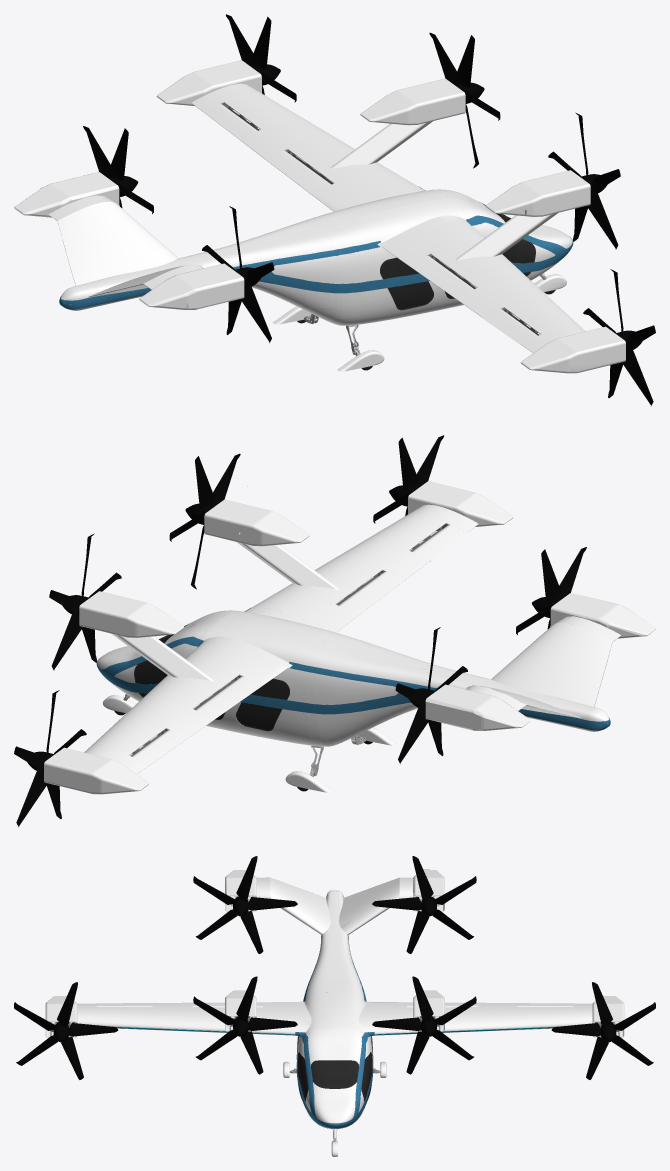
The model's file is Evtol Tilt Rotor.fbx.
3 renders of one model, top to bottom at view 1: azimuth 30°, elevation 25°; view 2: azimuth 150°, elevation 25°; view 3: azimuth 270°, elevation 25°, orthographic. The views are drawn at different scales.
Parts seen in each view (by area): view 1: Shape_IndexedFaceSet.007, Shape_IndexedFaceSet.008, Shape_IndexedFaceSet.1976, Shape_IndexedFaceSet.009, Shape_IndexedFaceSet.005, Shape_IndexedFaceSet.004, Shape_IndexedFaceSet.006, Shape_IndexedFaceSet.001, Shape_IndexedFaceSet.002, Shape_IndexedFaceSet.2063, Shape_IndexedFaceSet.003, Shape_IndexedFaceSet.12835; view 2: Shape_IndexedFaceSet.007, Shape_IndexedFaceSet.008, Shape_IndexedFaceSet.1976, Shape_IndexedFaceSet.009, Shape_IndexedFaceSet.005, Shape_IndexedFaceSet.006, Shape_IndexedFaceSet.004, Shape_IndexedFaceSet.2063, Shape_IndexedFaceSet.003, Shape_IndexedFaceSet.001, Shape_IndexedFaceSet.002, Shape_IndexedFaceSet.12835; view 3: Shape_IndexedFaceSet.008, Shape_IndexedFaceSet.007, Shape_IndexedFaceSet.006, Shape_IndexedFaceSet.004, Shape_IndexedFaceSet.001, Shape_IndexedFaceSet.2063, Shape_IndexedFaceSet.002, Shape_IndexedFaceSet.003, Shape_IndexedFaceSet.1976, Shape_IndexedFaceSet.005, Shape_IndexedFaceSet.009, Shape_IndexedFaceSet.12835.
Boxes of the visible parts, bbox=[...] form: Shape_IndexedFaceSet.007: bbox=[156, 60, 625, 373]; Shape_IndexedFaceSet.008: bbox=[57, 186, 572, 371]; Shape_IndexedFaceSet.1976: bbox=[14, 172, 244, 309]; Shape_IndexedFaceSet.009: bbox=[61, 221, 337, 322]; Shape_IndexedFaceSet.005: bbox=[59, 187, 573, 309]; Shape_IndexedFaceSet.004: bbox=[429, 32, 500, 168]; Shape_IndexedFaceSet.006: bbox=[548, 112, 620, 249]; Shape_IndexedFaceSet.001: bbox=[202, 206, 274, 342]; Shape_IndexedFaceSet.002: bbox=[583, 269, 655, 405]; Shape_IndexedFaceSet.2063: bbox=[83, 126, 153, 213]; Shape_IndexedFaceSet.003: bbox=[226, 14, 296, 102]; Shape_IndexedFaceSet.12835: bbox=[221, 102, 540, 335]; Shape_IndexedFaceSet.007: bbox=[44, 481, 513, 794]; Shape_IndexedFaceSet.008: bbox=[97, 607, 612, 792]; Shape_IndexedFaceSet.1976: bbox=[425, 593, 655, 730]; Shape_IndexedFaceSet.009: bbox=[332, 642, 609, 743]; Shape_IndexedFaceSet.005: bbox=[96, 608, 610, 730]; Shape_IndexedFaceSet.006: bbox=[169, 453, 240, 589]; Shape_IndexedFaceSet.004: bbox=[49, 533, 121, 670]; Shape_IndexedFaceSet.2063: bbox=[395, 627, 467, 763]; Shape_IndexedFaceSet.003: bbox=[14, 690, 86, 826]; Shape_IndexedFaceSet.001: bbox=[516, 547, 586, 634]; Shape_IndexedFaceSet.002: bbox=[373, 435, 443, 523]; Shape_IndexedFaceSet.12835: bbox=[131, 486, 448, 756]; Shape_IndexedFaceSet.008: bbox=[270, 877, 399, 1156]; Shape_IndexedFaceSet.007: bbox=[45, 990, 624, 1037]; Shape_IndexedFaceSet.006: bbox=[193, 976, 297, 1074]; Shape_IndexedFaceSet.004: bbox=[372, 976, 476, 1074]; Shape_IndexedFaceSet.001: bbox=[193, 856, 297, 953]; Shape_IndexedFaceSet.2063: bbox=[372, 856, 476, 953]; Shape_IndexedFaceSet.002: bbox=[14, 982, 118, 1079]; Shape_IndexedFaceSet.003: bbox=[551, 982, 655, 1079]; Shape_IndexedFaceSet.1976: bbox=[225, 869, 444, 911]; Shape_IndexedFaceSet.005: bbox=[295, 896, 374, 1128]; Shape_IndexedFaceSet.009: bbox=[308, 890, 361, 985]; Shape_IndexedFaceSet.12835: bbox=[50, 1016, 619, 1036].
Size of the model in its own units: 1116 by 473 by 1620.
